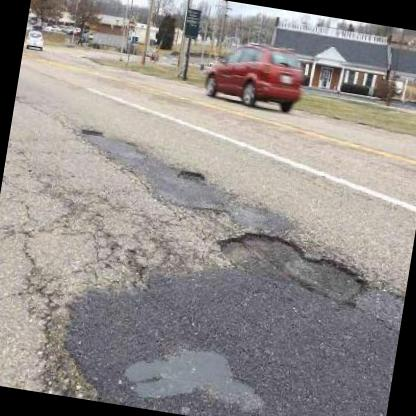pothole: (209, 224, 376, 312), (175, 164, 206, 184), (78, 124, 104, 139)
